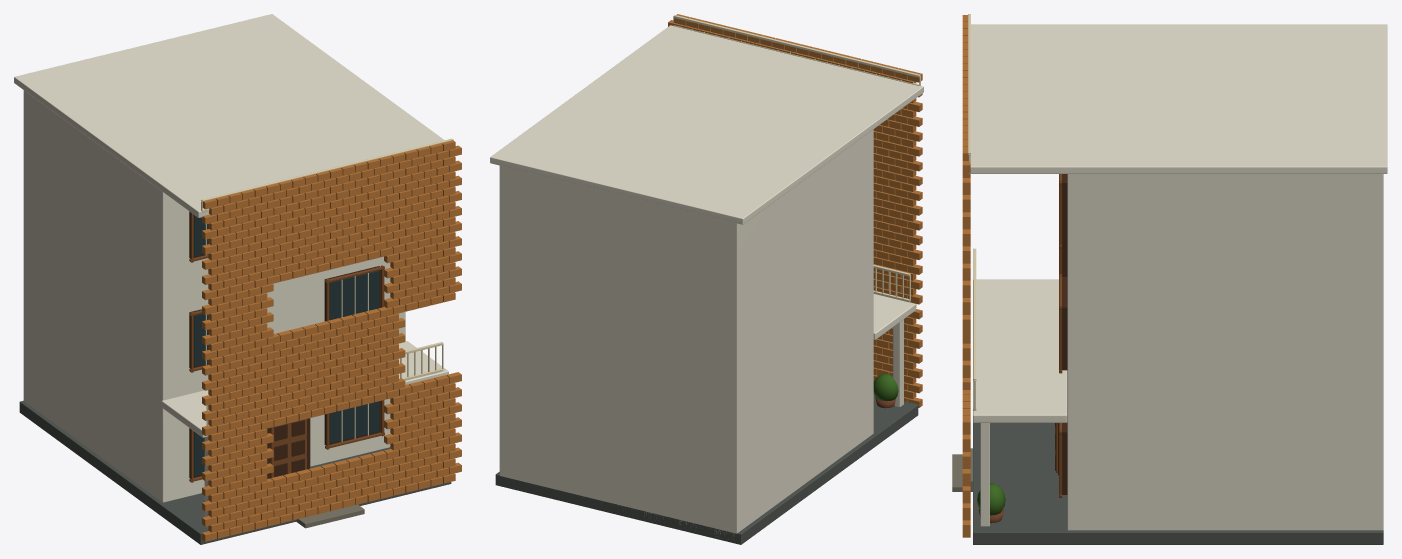
Rendered from brick-villa.glb.
3 renders of one model, left to right at view 1: azimuth 30°, elevation 25°; view 2: azimuth 150°, elevation 25°; view 3: azimuth 270°, elevation 25°, orthographic. The views are drawn at different scales.
Parts seen in each view (by area): view 1: Surface_Lime_plaster, Surface_Ochre_brick, Surface_Recessed_glazing, Surface_Basalt, Surface_Painted_joinery, Surface_Timber, Surface_Trim, Surface_Stone_paving; view 2: Surface_Lime_plaster, Surface_Ochre_brick, Surface_Basalt, Surface_Trim, Surface_Foliage; view 3: Surface_Lime_plaster, Surface_Basalt, Surface_Ochre_brick, Surface_Timber, Surface_Painted_joinery, Surface_Trim, Surface_Stone_paving.
Boxes of the visible parts, x1,y1,x2,y2 form: Surface_Lime_plaster: [14, 14, 448, 528]; Surface_Ochre_brick: [202, 140, 461, 541]; Surface_Recessed_glazing: [194, 215, 379, 476]; Surface_Basalt: [19, 400, 451, 544]; Surface_Painted_joinery: [189, 212, 384, 482]; Surface_Timber: [189, 211, 380, 478]; Surface_Trim: [201, 138, 453, 441]; Surface_Stone_paving: [296, 504, 364, 528]; Surface_Lime_plaster: [490, 25, 923, 538]; Surface_Ochre_brick: [668, 14, 922, 407]; Surface_Basalt: [495, 394, 918, 544]; Surface_Trim: [673, 15, 920, 302]; Surface_Foliage: [873, 373, 898, 401]; Surface_Lime_plaster: [969, 24, 1387, 530]; Surface_Basalt: [973, 423, 1383, 544]; Surface_Ochre_brick: [962, 15, 970, 537]; Surface_Timber: [1055, 174, 1067, 494]; Surface_Painted_joinery: [1056, 174, 1062, 497]; Surface_Trim: [968, 14, 976, 410]; Surface_Stone_paving: [952, 448, 972, 491].
Bounding box in the file's own units: 8.31 × 10.55 × 10.6.
